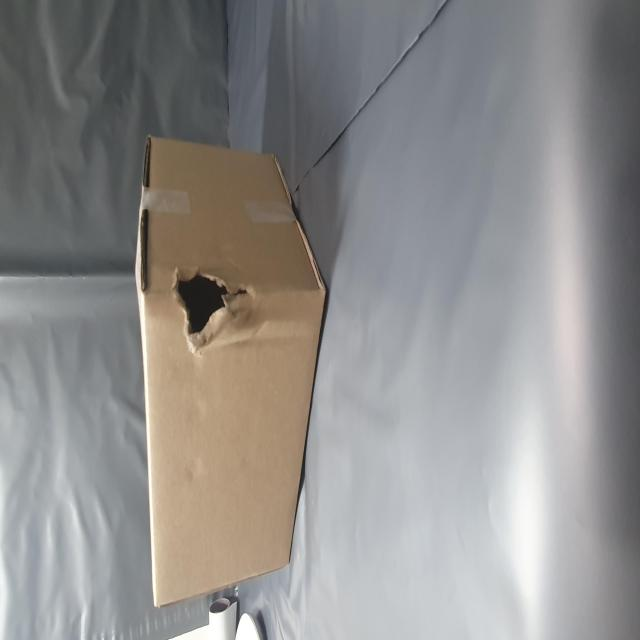damaged: (156, 306, 221, 442)
